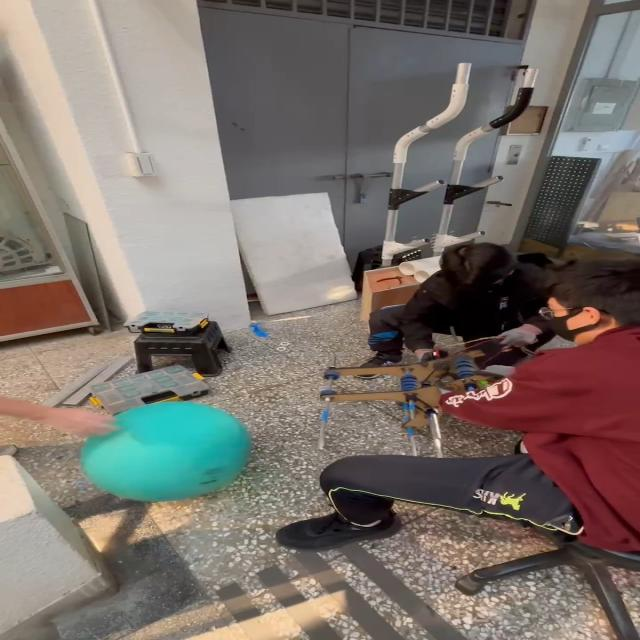ALGAE: (78, 400, 252, 502)
